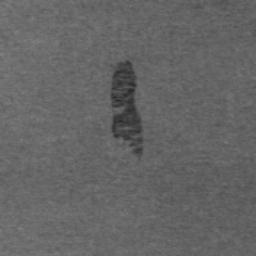Secondary rust skin: (110, 59, 145, 157)
